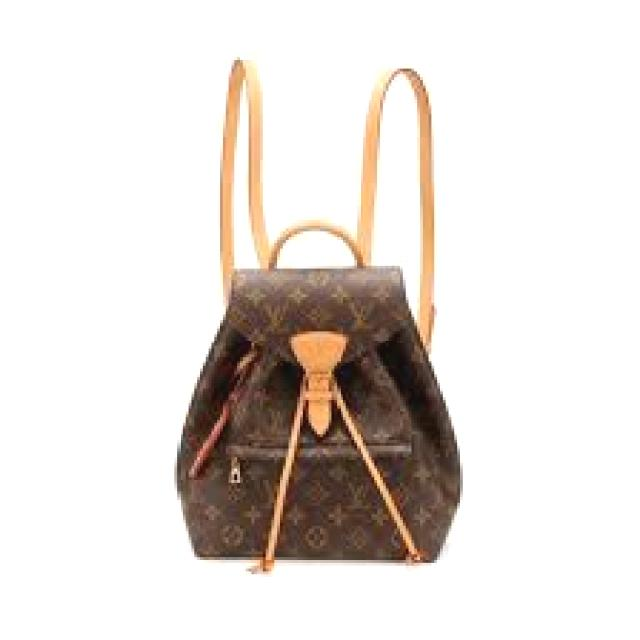backpack: (176, 55, 464, 567)
